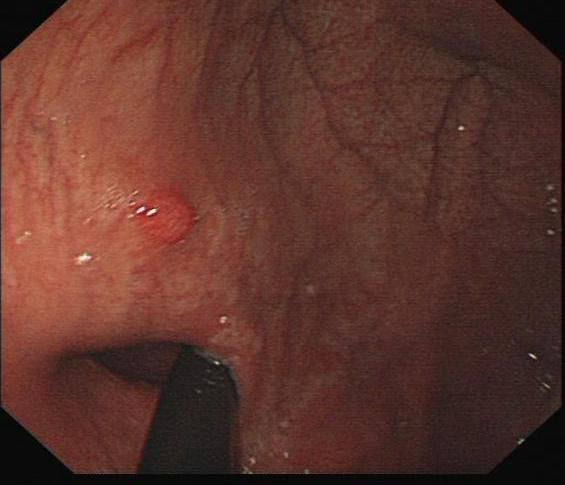Polyp: (128, 181, 203, 244)
